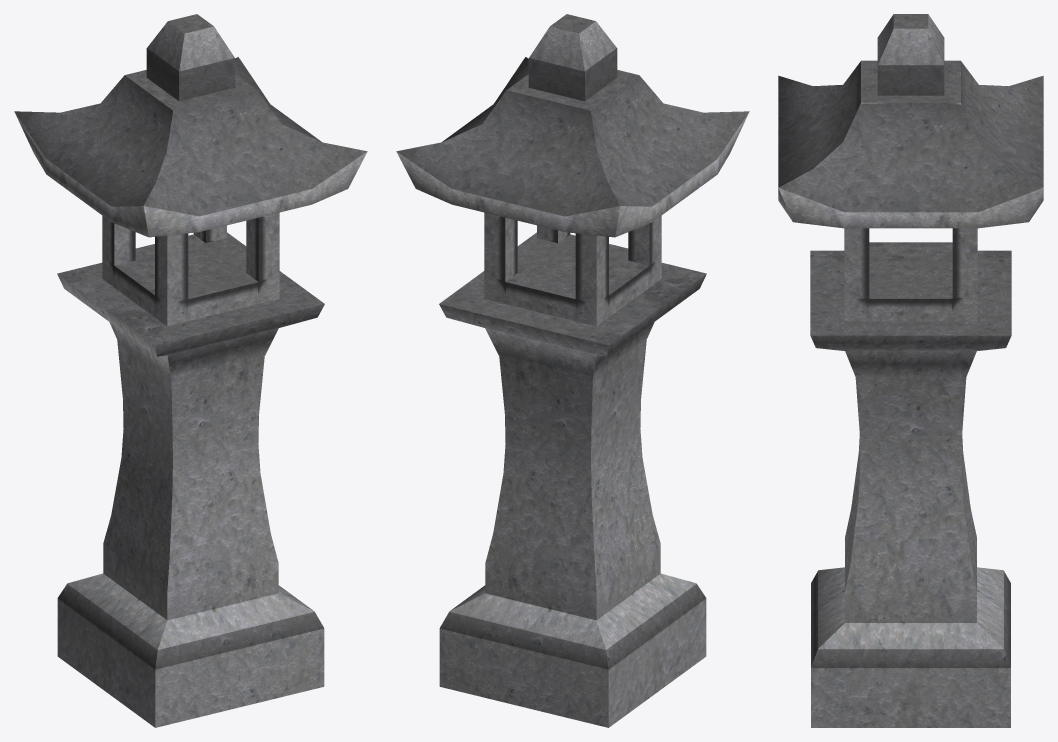
File: Tourou1.fbx
3 views of the same model, side by side, from view 1: azimuth 30°, elevation 25°; view 2: azimuth 150°, elevation 25°; view 3: azimuth 270°, elevation 25° (orthographic). The views are drawn at different scales.
Parts seen in each view (by area): view 1: polySurface3; view 2: polySurface3; view 3: polySurface3.
Part boxes in pixels (<box>): polySurface3: <box>14,14,367,727</box>; polySurface3: <box>396,14,749,727</box>; polySurface3: <box>778,14,1043,727</box>.
Size of the model in its own units: 0.5402 by 1.49 by 0.5402.
Materials: 1 (1 with a texture image).
